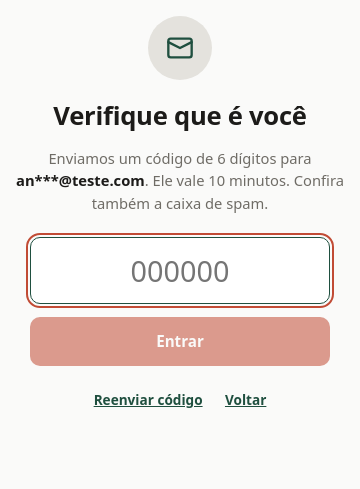
Test: RN17 - Verificação em Duas Etapas › reenviar mostra a confirmação e reinicia a contagem
This screenshot has width=360, height=489.
Click the button "Reenviar código" at (148, 399), box [94,385,203,413]
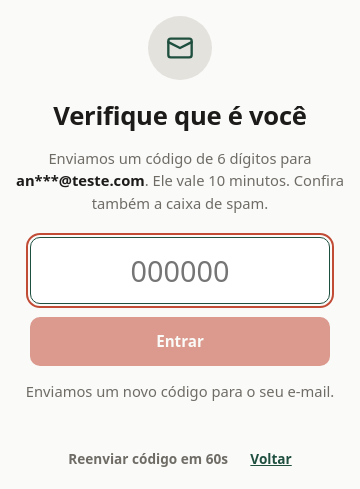
Now the message shows "Enviamos um novo código", box [26,381,334,401]
Now the button "Reenviar código em 60s" is disabled, box [68,444,228,473]
